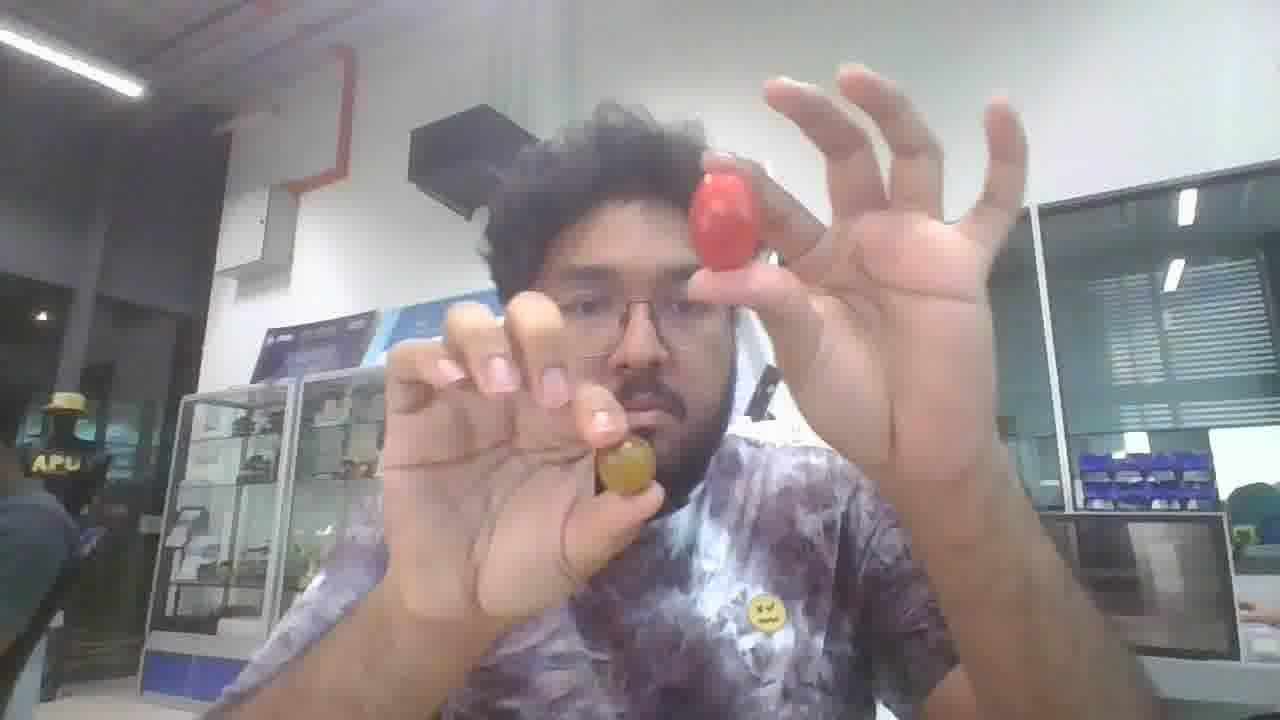red_cherry_tomato: (690, 173, 759, 270)
yellow_cherry_tomato: (597, 435, 655, 495)
